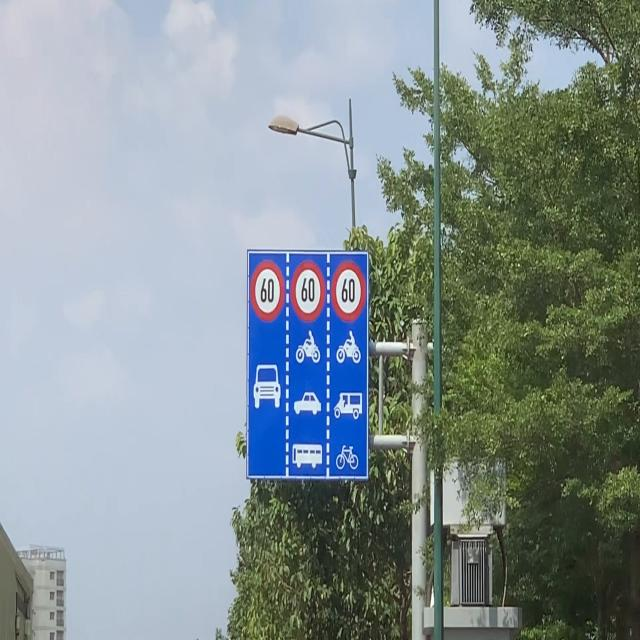Toc do toi da: (250, 259, 285, 322), (331, 260, 366, 322), (291, 261, 325, 322)
